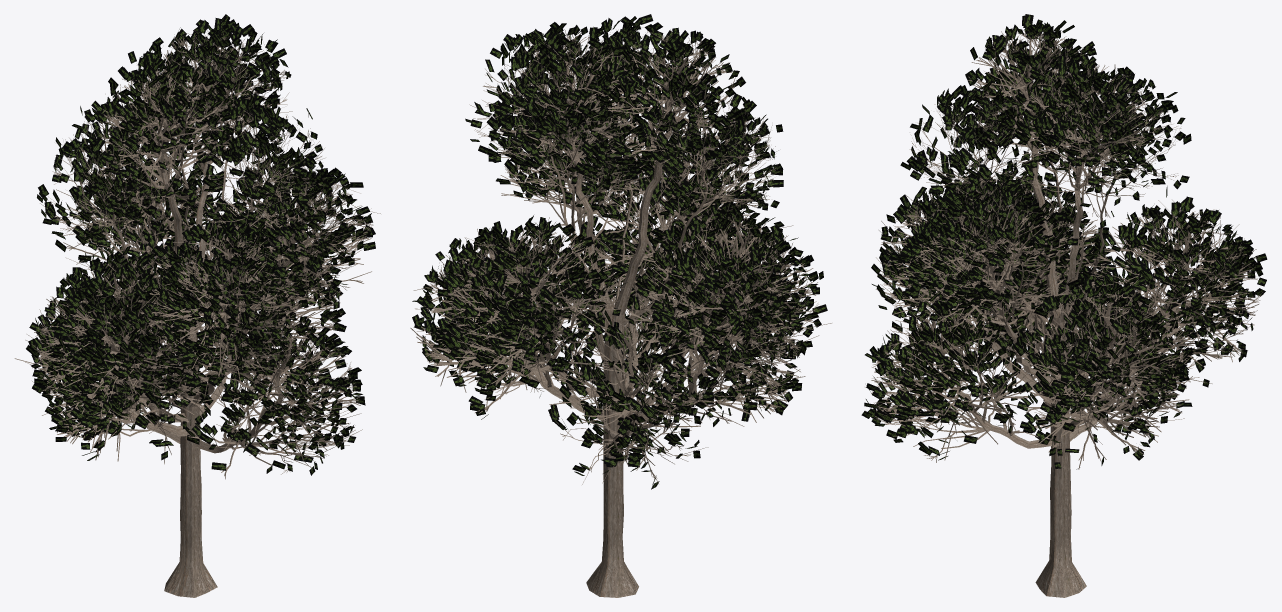
Rendered from oak.glb.
The picture shows the model from 3 angles, left to right: view 1: azimuth 30°, elevation 25°; view 2: azimuth 150°, elevation 25°; view 3: azimuth 270°, elevation 25°; orthographic projection. The views are drawn at different scales.
Visible parts, largest first — view 1: oak 01, oak 01.001; view 2: oak 01, oak 01.001; view 3: oak 01, oak 01.001.
Part boxes in pixels (x1=…): oak 01: x1=26, y1=14, x2=375, y2=475; oak 01.001: x1=14, y1=29, x2=380, y2=597; oak 01: x1=412, y1=14, x2=827, y2=489; oak 01.001: x1=410, y1=26, x2=831, y2=597; oak 01: x1=861, y1=14, x2=1267, y2=469; oak 01.001: x1=865, y1=28, x2=1263, y2=597.
Size of the model in its own units: 7.21 by 11.2 by 7.56.
Materials: 2 (2 with a texture image).
